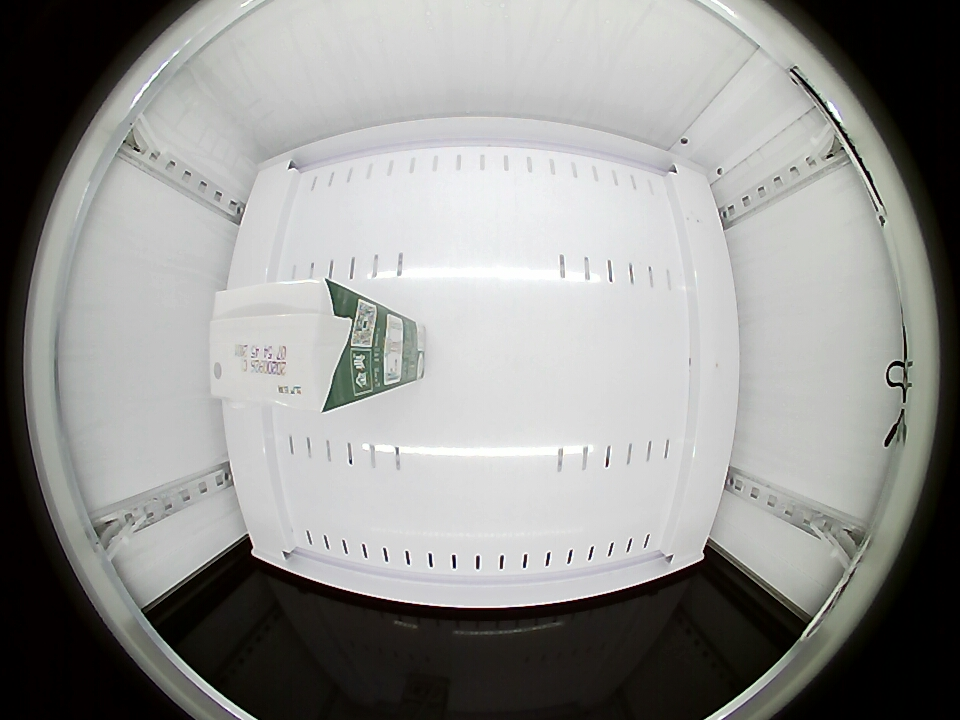jindian: (206, 278, 356, 413)
